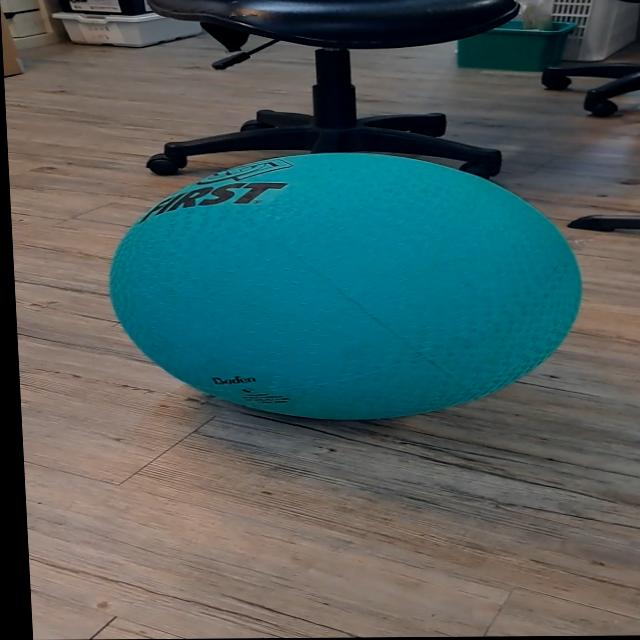ALGAE: (98, 149, 590, 423)
